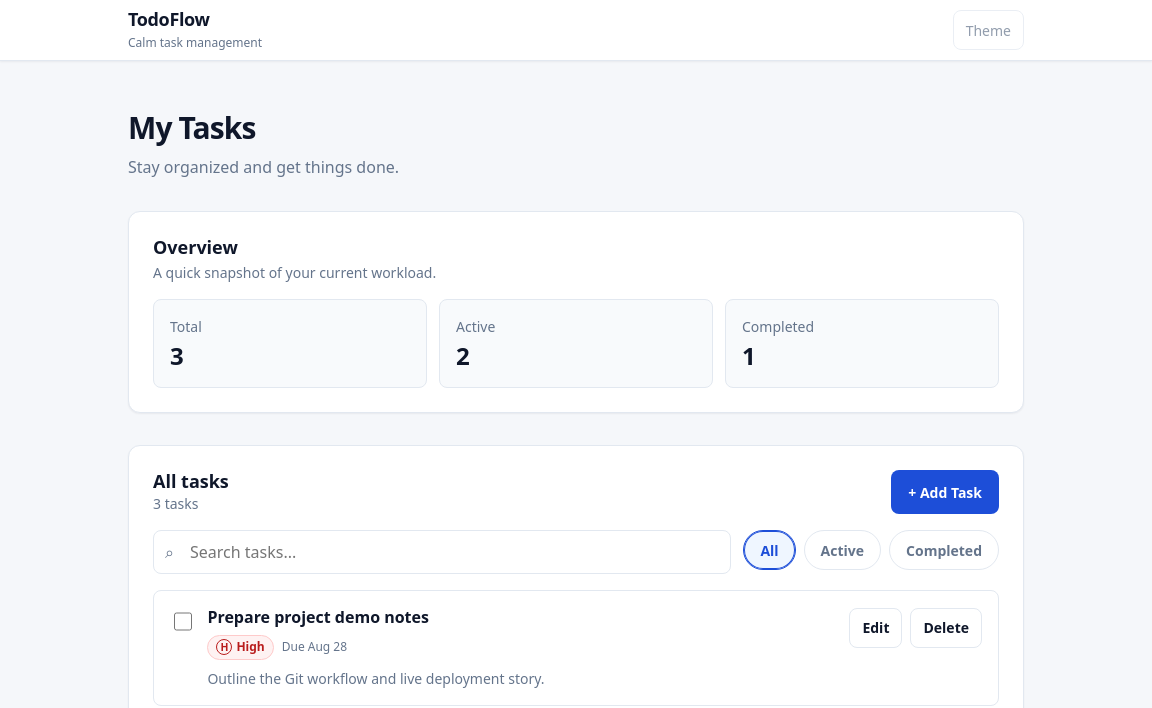
it: TodoFlow App › searches by title and description and clears search
Check: the text "Prepare project demo notes" is shown, box [207, 606, 429, 628]
Step 1. Type "API" into the search field labelled "Search tasks" → (442, 552), box [153, 530, 731, 574]
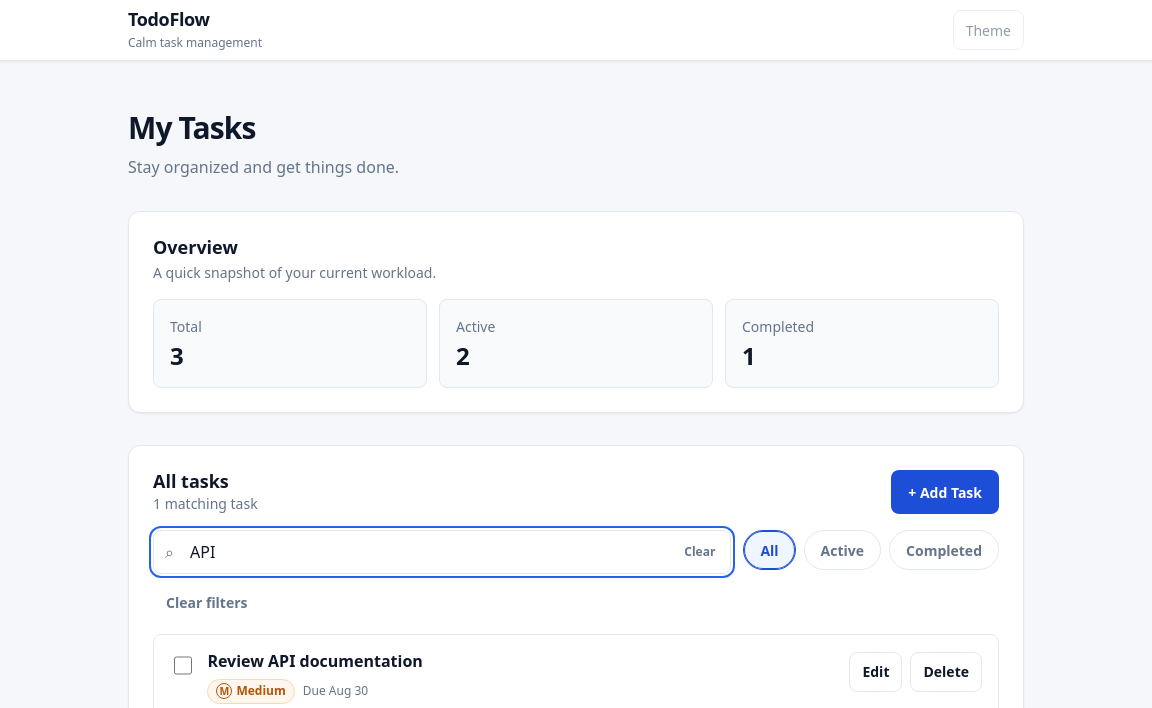
Check: the text "Review API documentation" is shown, box [207, 650, 423, 672]
Check: the text "Prepare project demo notes" is gone
Step 2. Replace the text in the search field named "Search tasks" with "git workflow" → (442, 552), box [153, 530, 731, 574]
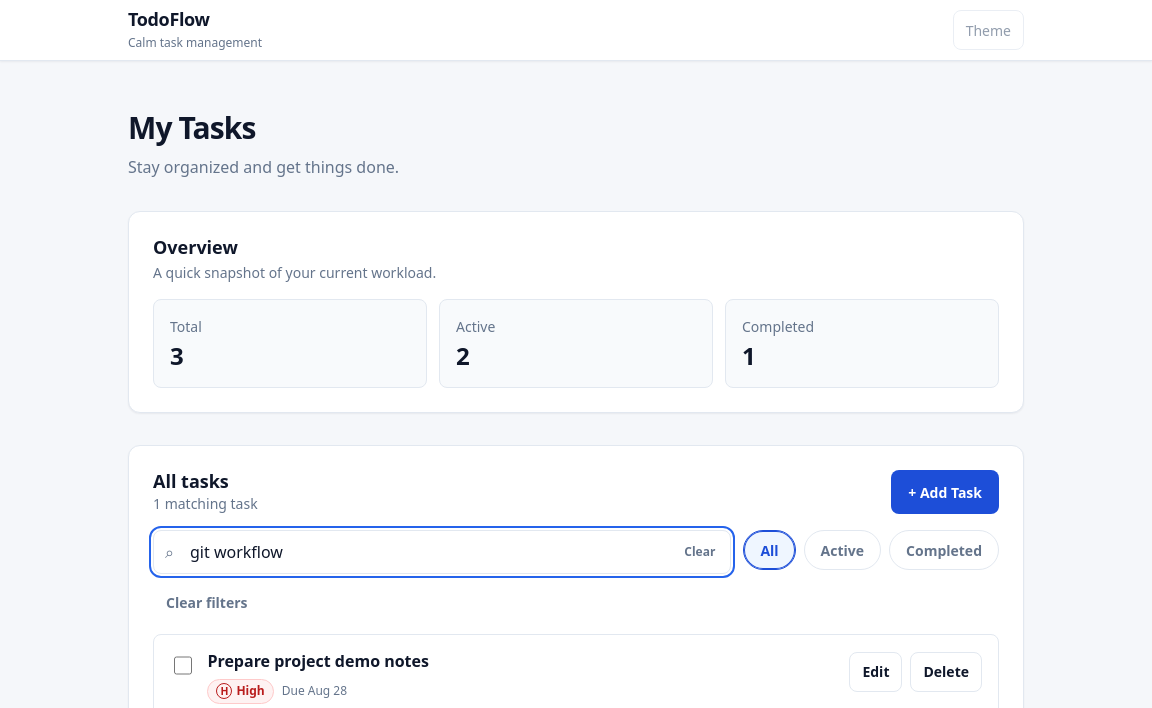
Check: the text "Prepare project demo notes" is shown, box [207, 650, 429, 672]
Step 3. Replace the text in the search field named "Search tasks" with "ASSIGNMENT" → (442, 552), box [153, 530, 731, 574]
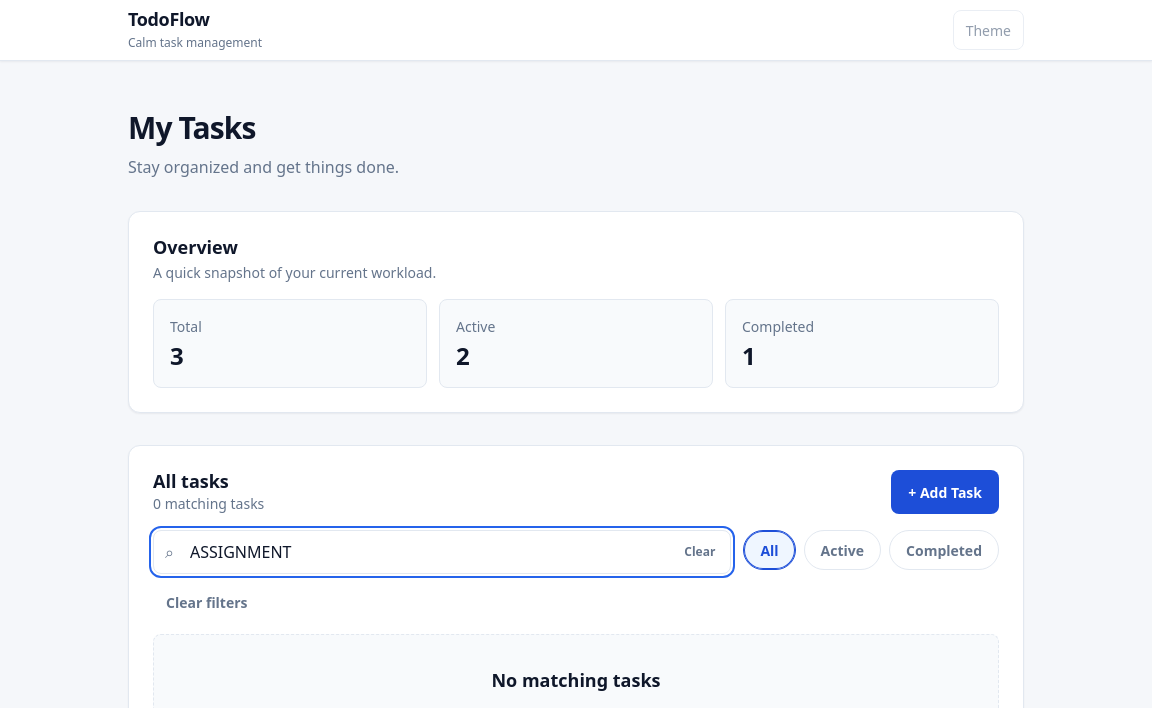
Check: the heading "No matching tasks" is shown, box [492, 667, 660, 694]
Step 4. Click the button with aria-label "Clear search" → click(700, 552), box [676, 532, 723, 572]
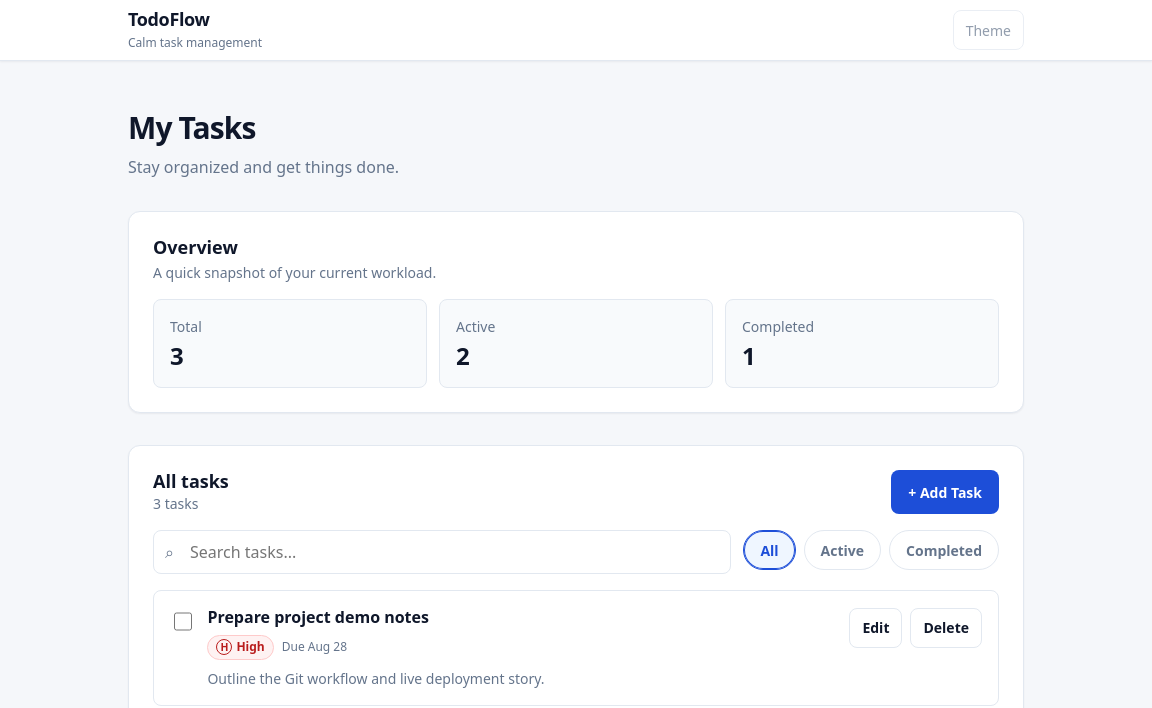
Check: the text "Prepare project demo notes" is shown, box [207, 606, 429, 628]
